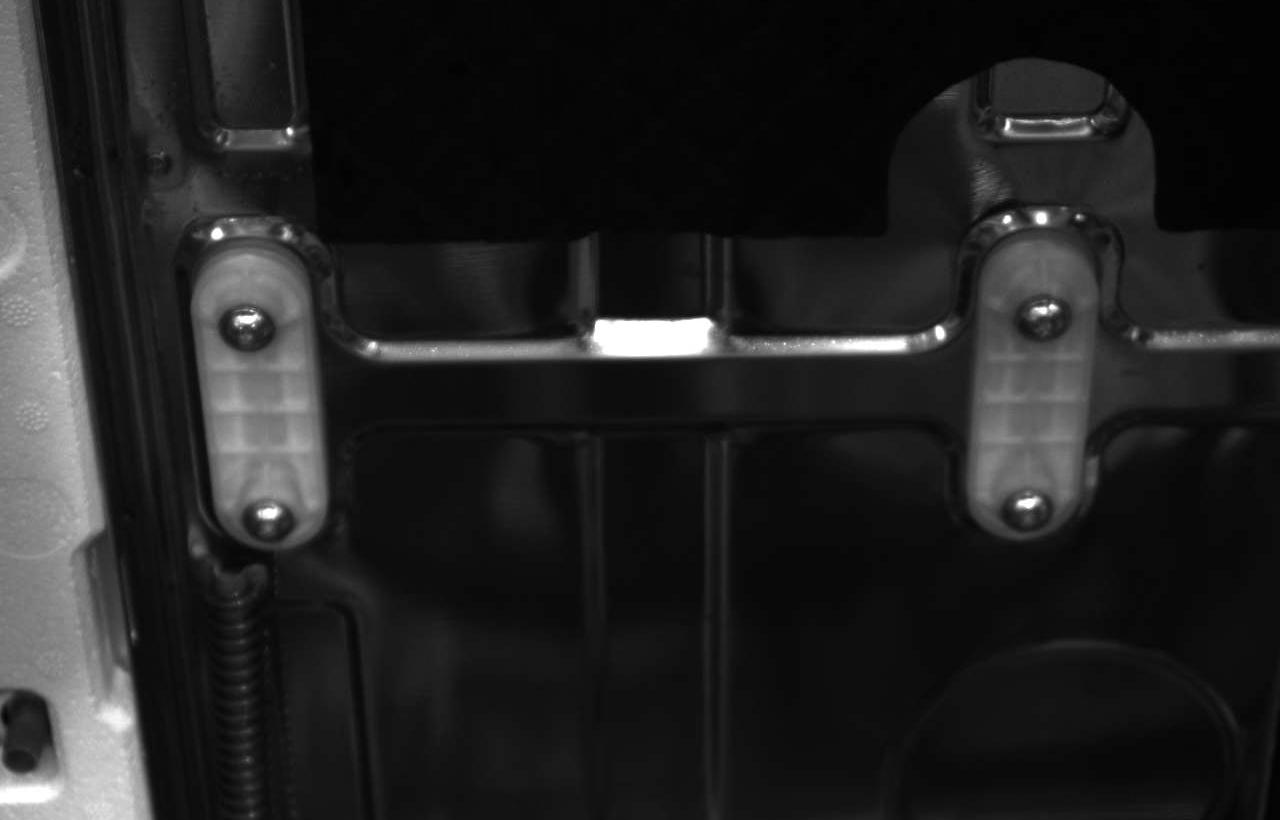vida-ok: (210, 294, 281, 361), (1011, 282, 1079, 349), (993, 477, 1059, 545), (234, 491, 300, 549)
